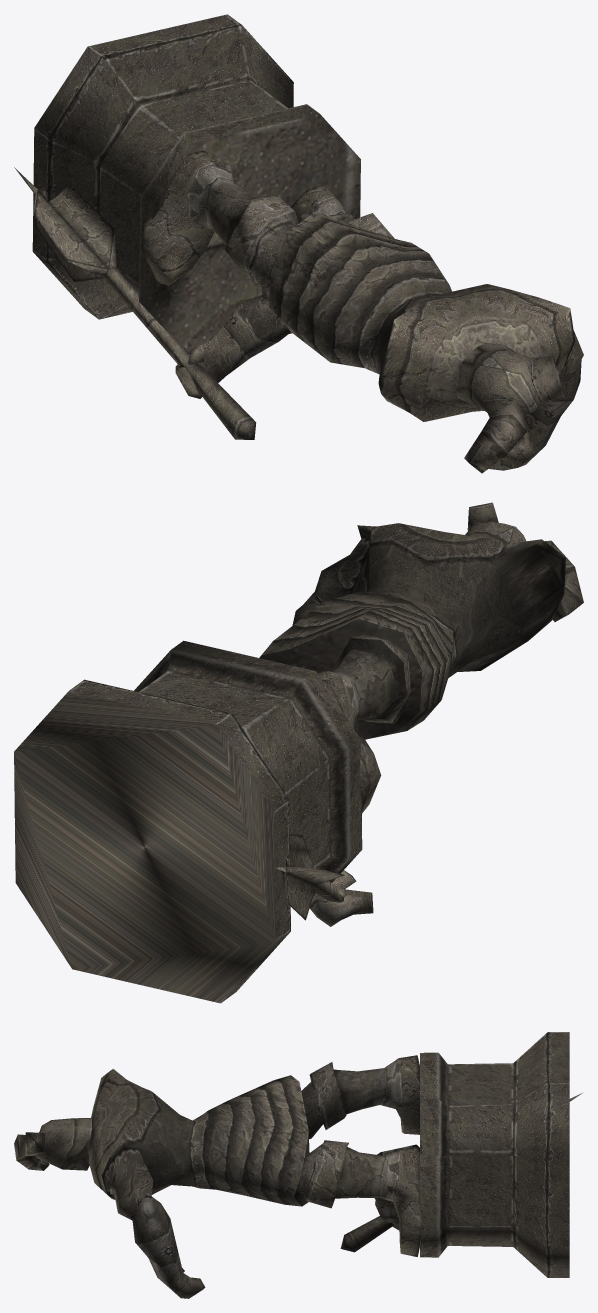
The model's file is statue-Warrior-02.obj.
3 renders of one model, top to bottom at view 1: azimuth 30°, elevation 25°; view 2: azimuth 150°, elevation 25°; view 3: azimuth 270°, elevation 25°, orthographic. The views are drawn at different scales.
Parts seen in each view (by area): view 1: (null); view 2: (null); view 3: (null).
Boxes of the visible parts, x1,y1,x2,y2 form: (null): (14, 14, 583, 473); (null): (14, 502, 583, 1003); (null): (14, 1032, 582, 1298).
Bounding box in the file's own units: 2.32 × 2.24 × 5.39.
